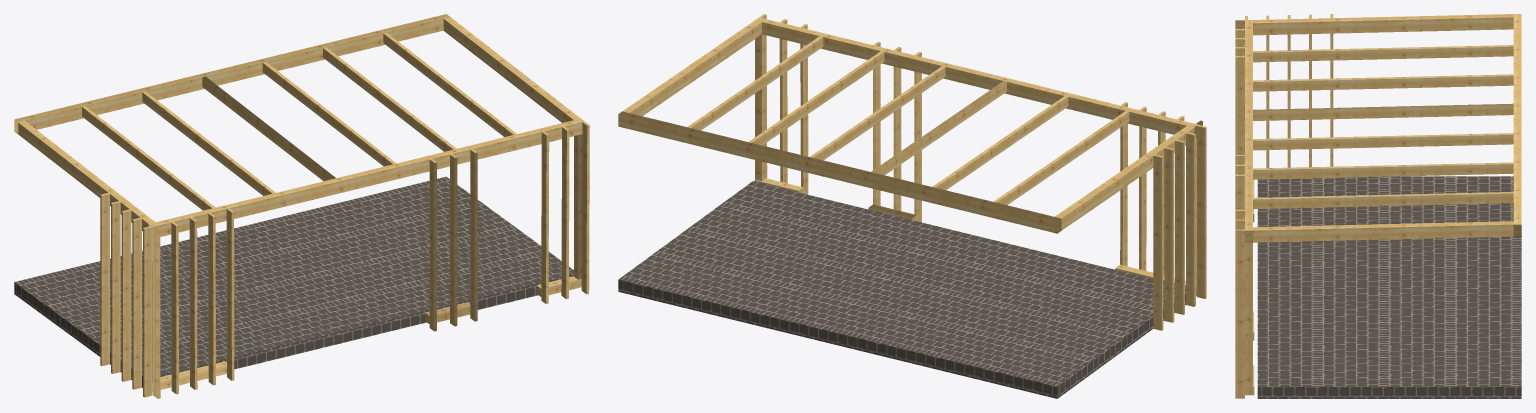
File: pegrola.glb
3 views of the same model, side by side, from view 1: azimuth 30°, elevation 25°; view 2: azimuth 150°, elevation 25°; view 3: azimuth 270°, elevation 25° (orthographic).
Visible parts, largest first — view 1: Material4 (×28), Material3; view 2: Material3, Material4 (×23); view 3: Material3, Material4 (×18).
Part boxes in pixels (<box>): Material4 (×28): <box>14,14,589,398</box>; Material3: <box>14,176,573,387</box>; Material3: <box>618,181,1185,398</box>; Material4 (×23): <box>618,17,1206,330</box>; Material3: <box>1257,176,1521,398</box>; Material4 (×18): <box>1235,14,1521,398</box>.
Bounding box in the file's own units: 301 × 114 × 170.
2 materials, 2 textured.
